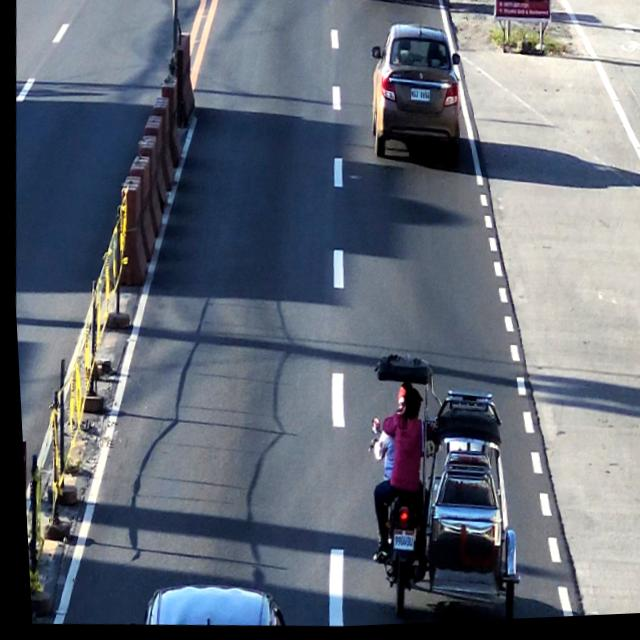Car: (364, 25, 463, 168), (131, 577, 280, 633)
License-Plate: (386, 532, 410, 555), (406, 91, 431, 107)
Tricycle: (353, 343, 524, 628)
